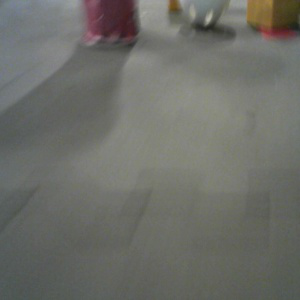middle: (80, 1, 141, 47)
